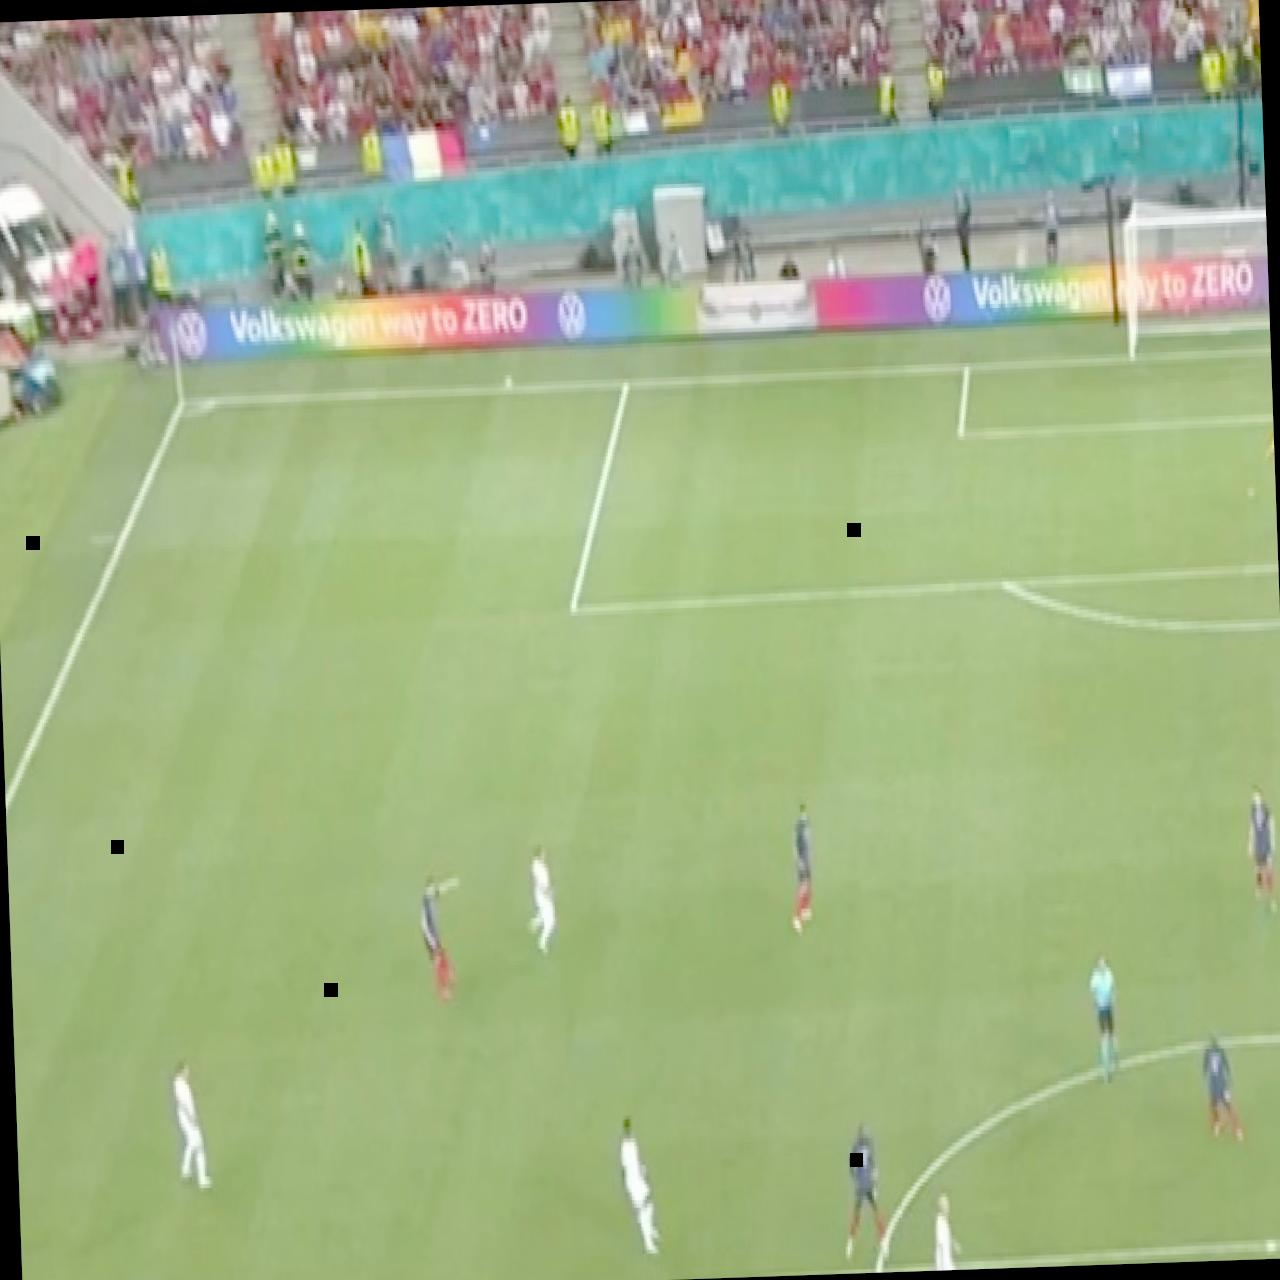football: (830, 1116, 894, 1270), (608, 1108, 668, 1272), (158, 1054, 214, 1199), (412, 864, 469, 1002), (1190, 1026, 1248, 1146), (1235, 776, 1280, 924), (1082, 940, 1122, 1097), (516, 830, 562, 960), (780, 795, 820, 943), (914, 1188, 970, 1271), (1258, 406, 1276, 526)
